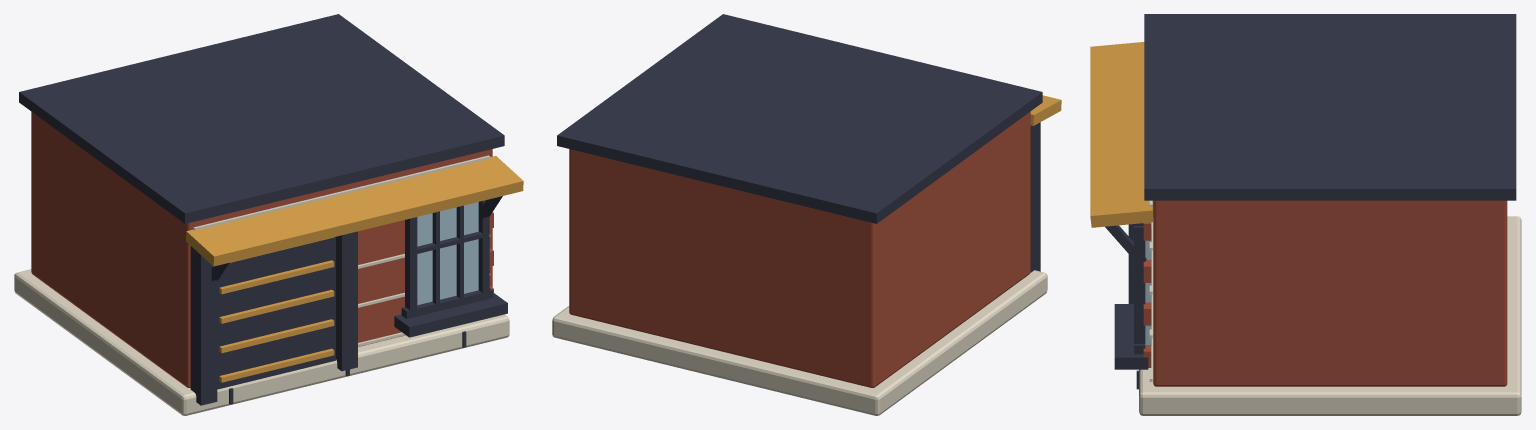
The model's file is base_workshop_works_1.glb.
The picture shows the model from 3 angles, left to right: view 1: azimuth 30°, elevation 25°; view 2: azimuth 150°, elevation 25°; view 3: azimuth 270°, elevation 25°; orthographic projection. The views are drawn at different scales.
Parts seen in each view (by area): view 1: base_workshop_works_1 ink, base_workshop_works_1 brick, base_workshop_works_1 ochre, base_workshop_works_1 mist, base_workshop_works_1 glass, base_workshop_works_1 mortar; view 2: base_workshop_works_1 brick, base_workshop_works_1 ink, base_workshop_works_1 mist, base_workshop_works_1 ochre; view 3: base_workshop_works_1 ink, base_workshop_works_1 brick, base_workshop_works_1 mist, base_workshop_works_1 ochre, base_workshop_works_1 clay, base_workshop_works_1 glass, base_workshop_works_1 mortar.
Part boxes in pixels (x1,y1,x2,y2): base_workshop_works_1 ink: (19,14,507,405); base_workshop_works_1 brick: (31,111,492,387); base_workshop_works_1 ochre: (186,156,523,382); base_workshop_works_1 mist: (14,269,509,415); base_workshop_works_1 glass: (417,202,478,305); base_workshop_works_1 mortar: (193,155,490,346); base_workshop_works_1 brick: (569,111,1030,387); base_workshop_works_1 ink: (557,14,1042,272); base_workshop_works_1 mist: (552,270,1047,415); base_workshop_works_1 ochre: (1030,95,1061,125); base_workshop_works_1 ink: (1105,14,1516,389); base_workshop_works_1 brick: (1153,200,1507,386); base_workshop_works_1 mist: (1139,216,1521,415); base_workshop_works_1 ochre: (1090,42,1153,227); base_workshop_works_1 clay: (1143,222,1151,367); base_workshop_works_1 glass: (1145,222,1151,345); base_workshop_works_1 mortar: (1149,200,1152,381).
Bounding box in the file's own units: 0.815 × 0.48 × 0.8284.
